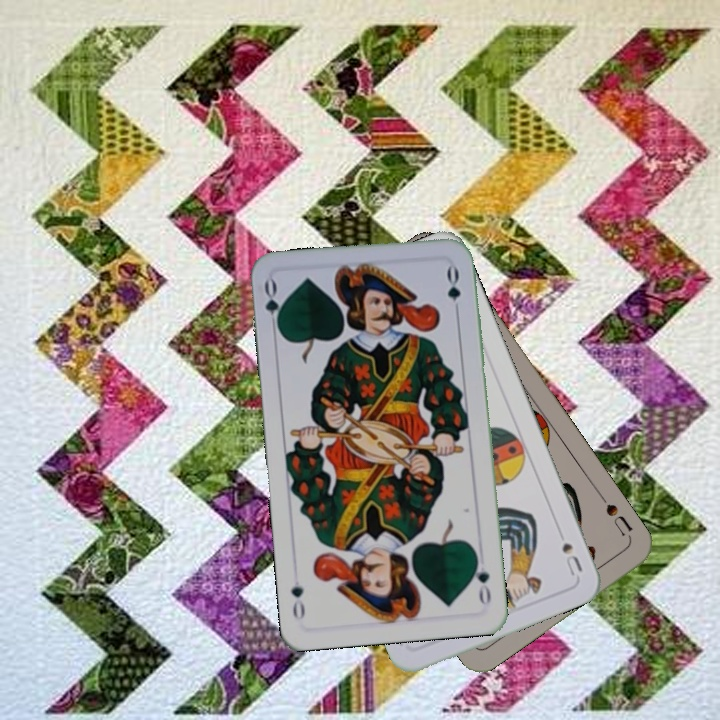GO: (260, 276, 286, 336), (469, 550, 493, 608)
SU: (595, 490, 636, 542), (558, 538, 585, 579)
